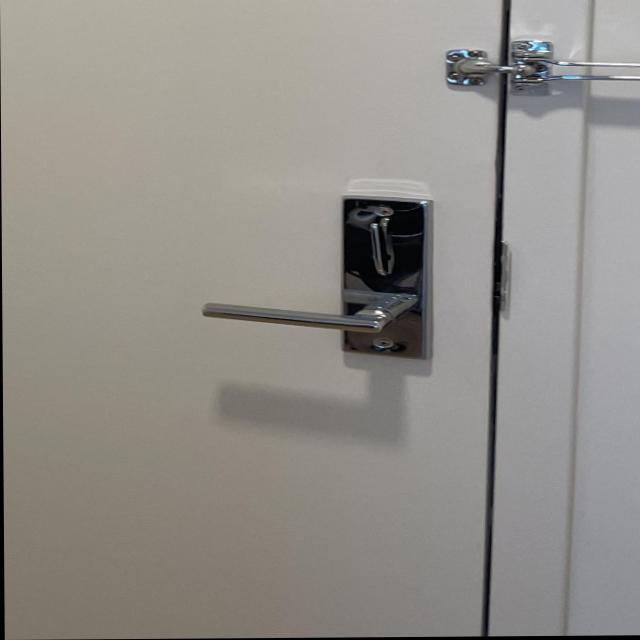door_handle: (196, 284, 441, 357)
